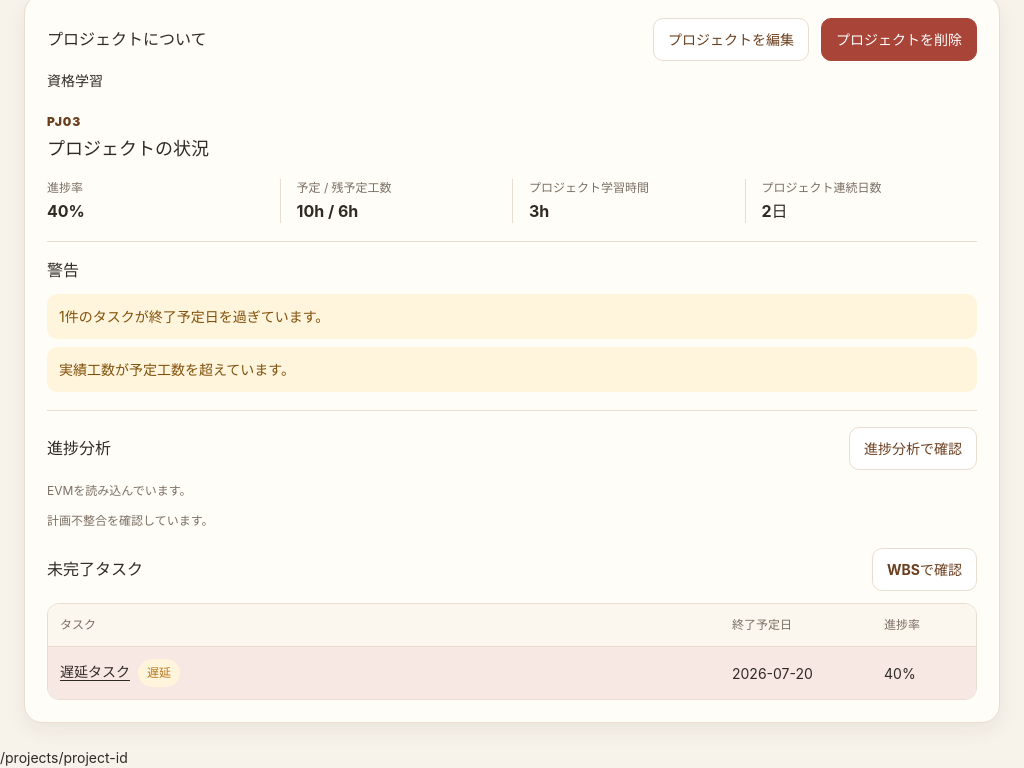
Scenario: ProjectOverviewPage › 詳細パネルの保存と削除の成功後は選択状態を解除する
(page scrolled)
Step 1. Click the button with aria-label "遅延タスクの詳細を開く" → (95, 672), box [48, 646, 976, 699]
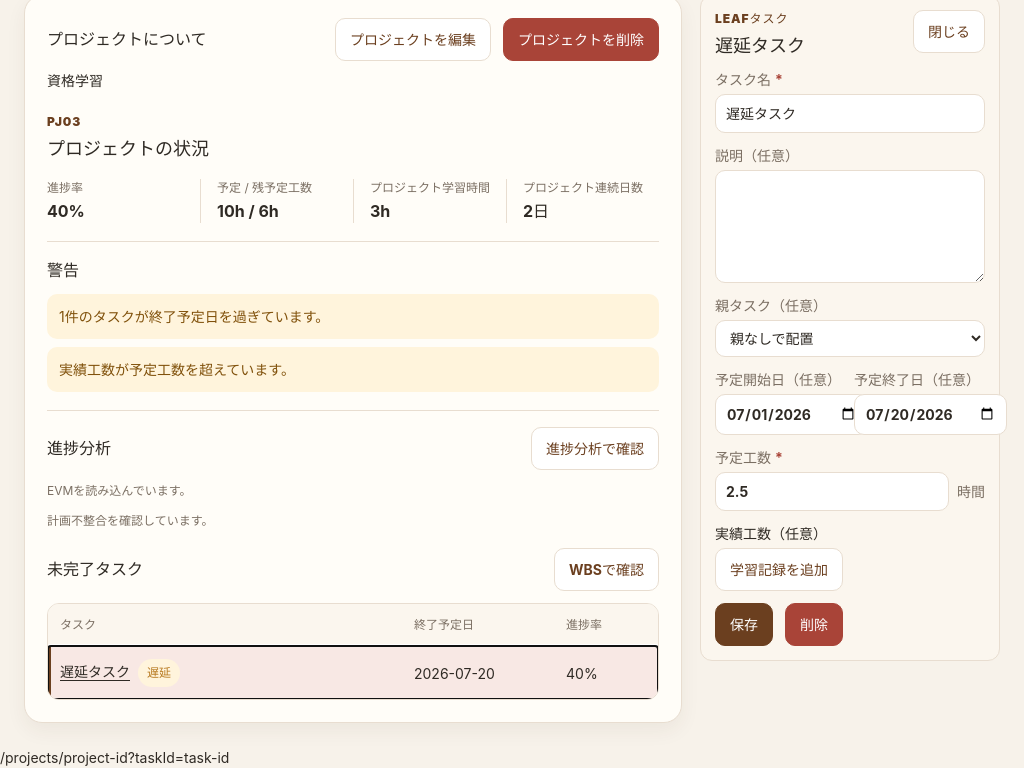
Step 2. Click the button "保存" → (744, 624), box [715, 603, 773, 646]
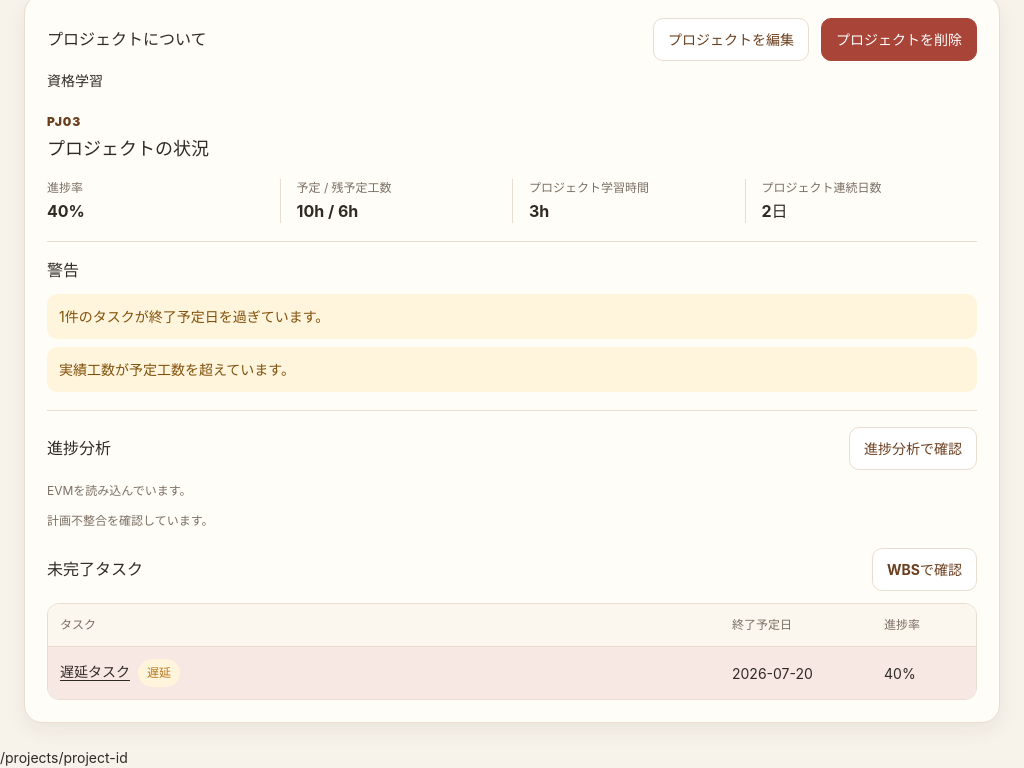
Check: the text with test id "current-location" reads "/projects/project-id", box [0, 749, 128, 766]
Step 3. Click the button with aria-label "遅延タスクの詳細を開く" → (95, 672), box [48, 646, 976, 699]
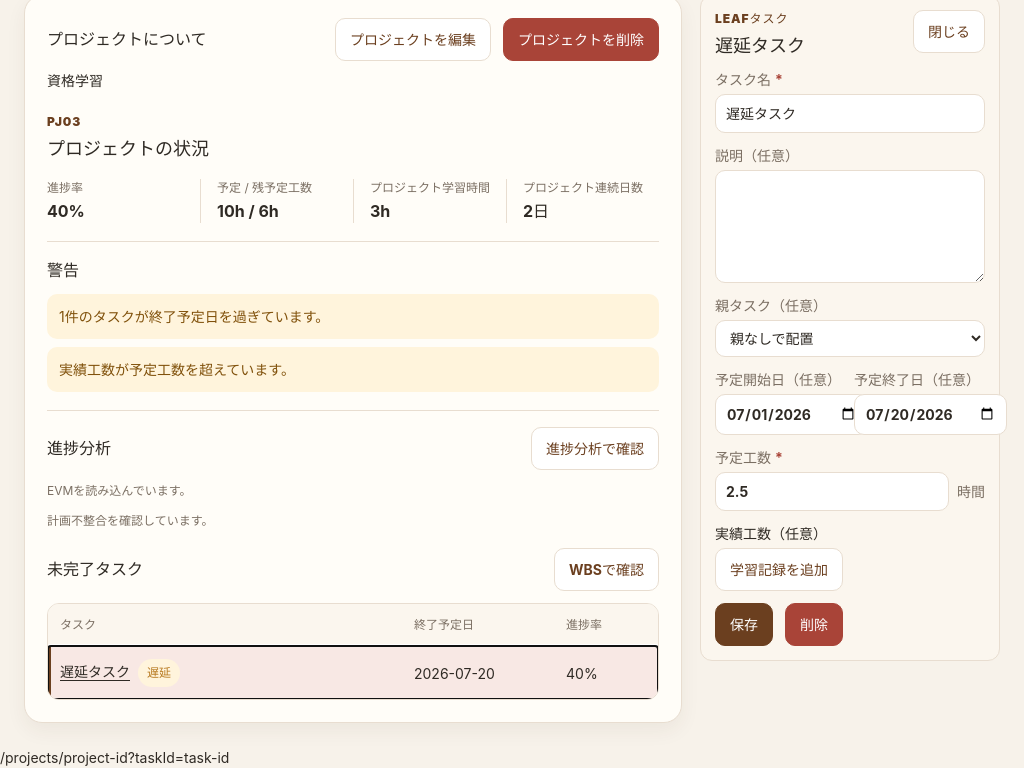
Step 4. Click the button "削除" → (814, 624), box [785, 603, 843, 646]
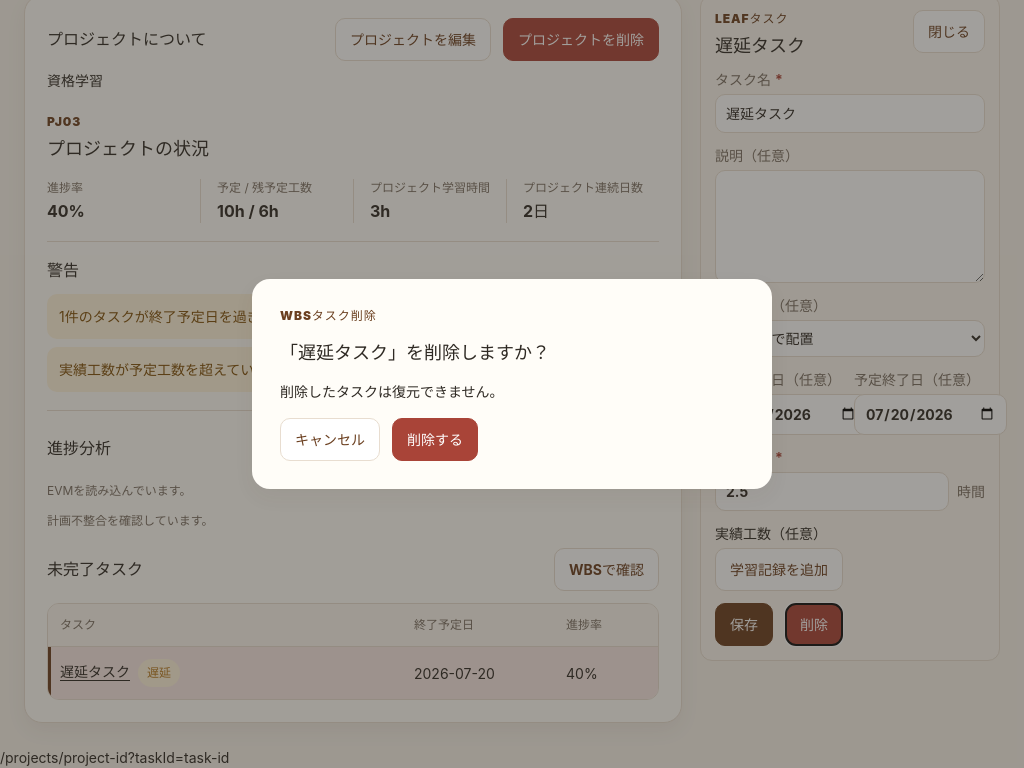
Step 5. Click the button "削除する" → (435, 440), box [392, 418, 478, 461]
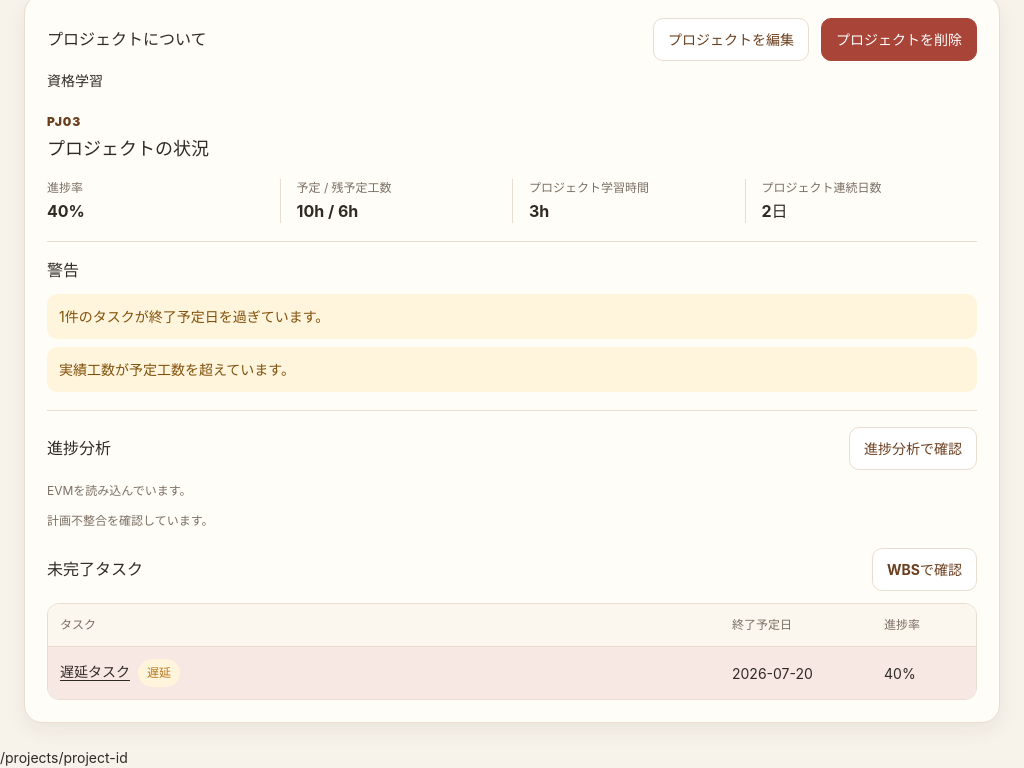
Check: the text with test id "current-location" reads "/projects/project-id", box [0, 749, 128, 766]
